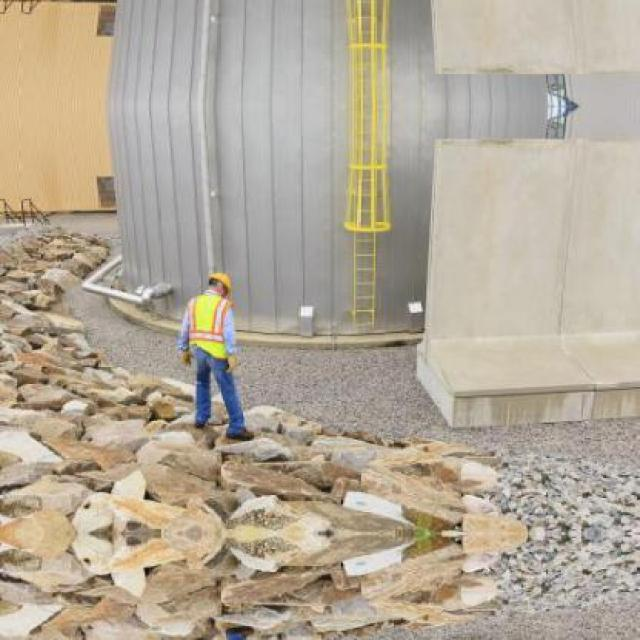helmet: (205, 269, 232, 303)
